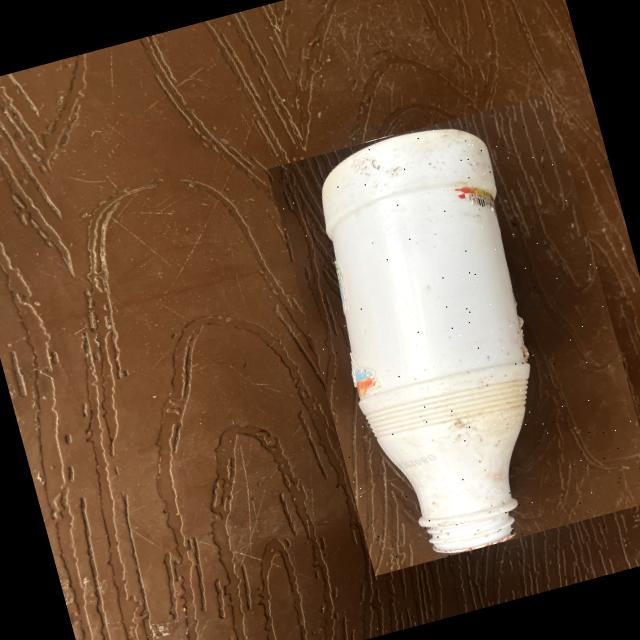REJECT: (265, 92, 640, 575)
